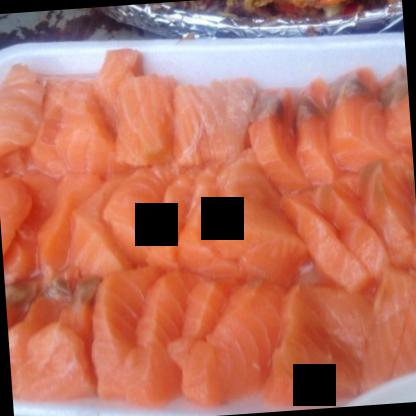salmon: (0, 29, 415, 415)
